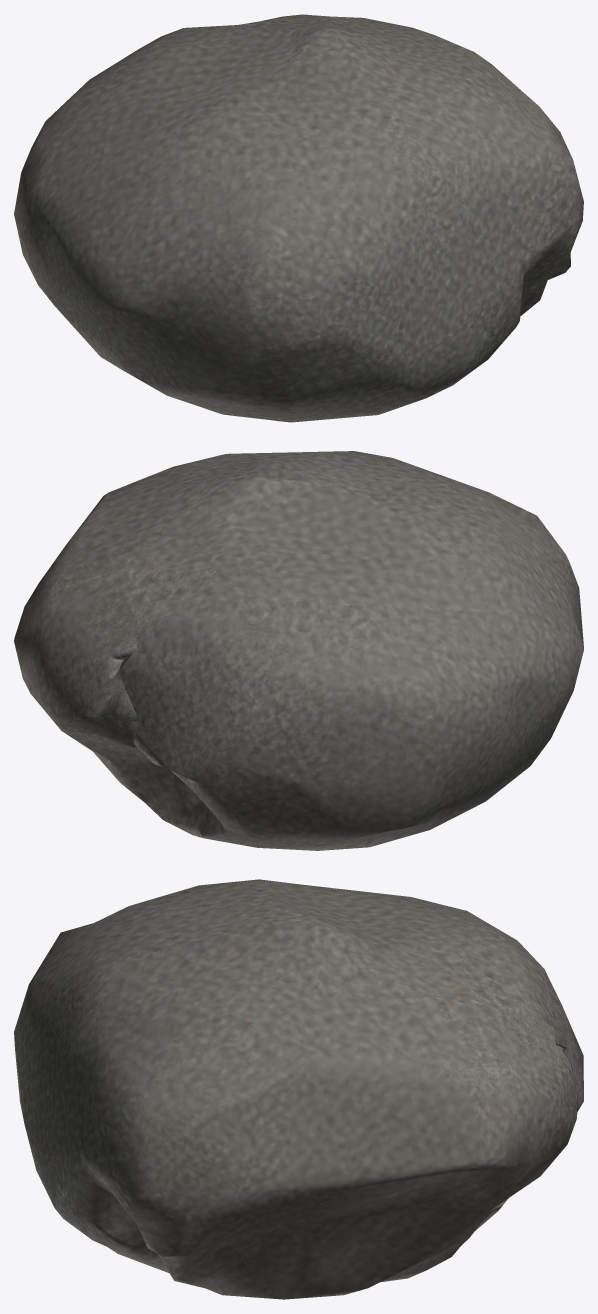
The model's file is prp_rock_boulder_a.glb.
The picture shows the model from 3 angles, top to bottom: view 1: azimuth 30°, elevation 25°; view 2: azimuth 150°, elevation 25°; view 3: azimuth 270°, elevation 25°; orthographic projection. The views are drawn at different scales.
Parts seen in each view (by area): view 1: prp_rock_boulder_a; view 2: prp_rock_boulder_a; view 3: prp_rock_boulder_a.
Part boxes in pixels (x1=…): prp_rock_boulder_a: x1=14, y1=14, x2=583, y2=422; prp_rock_boulder_a: x1=14, y1=451, x2=583, y2=850; prp_rock_boulder_a: x1=14, y1=879, x2=583, y2=1299.
Size of the model in its own units: 6.18 by 4 by 6.05.
1 material, 1 textured.
